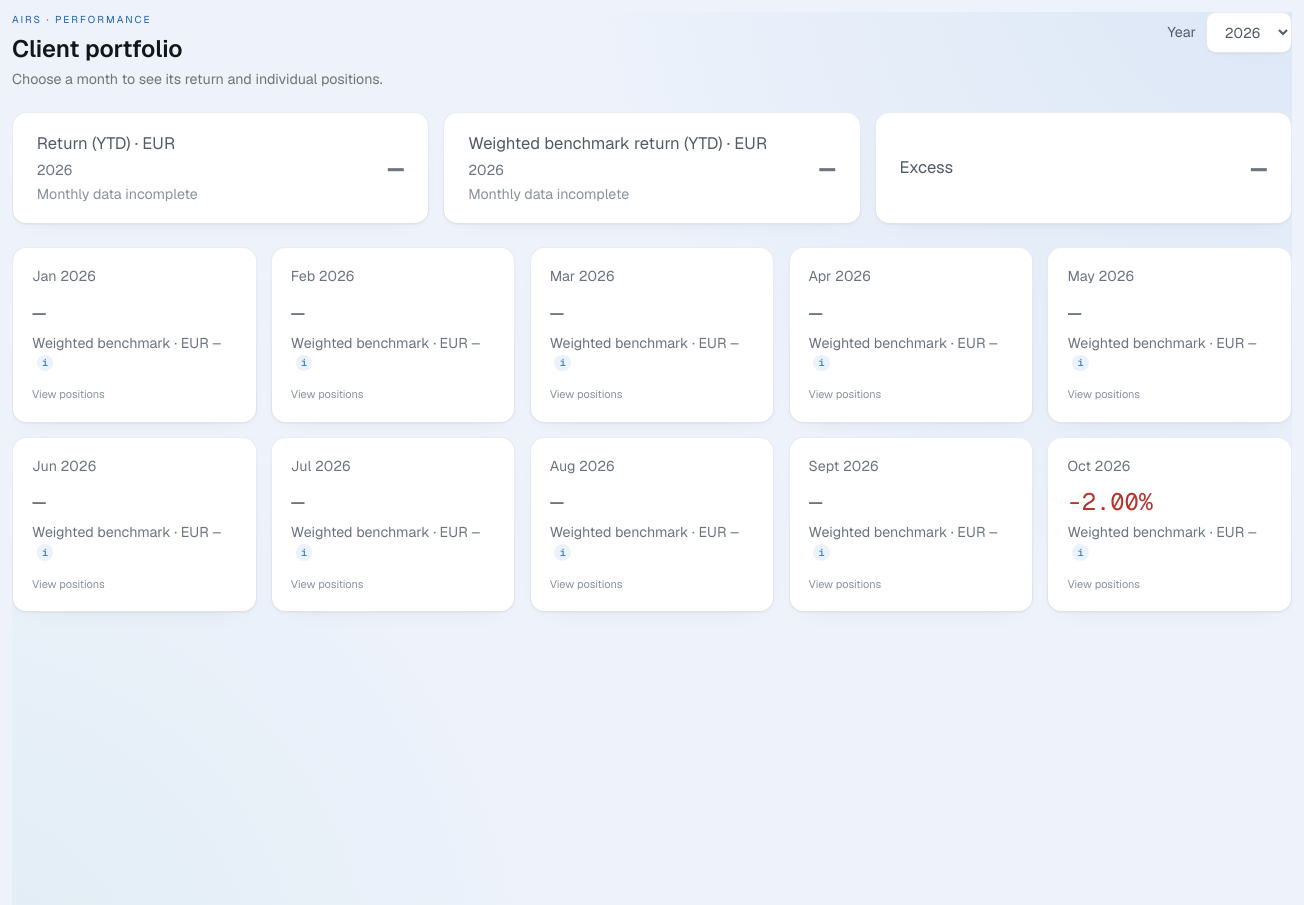
Test: AIRS monthly report › retains a partial-download failure after reloading the saved result
Click the button "Oct 2026 -2.00% Weighted benchmark · EUR — i View positions" at {"x": 1170, "y": 524}, box [1047,437,1292,612]
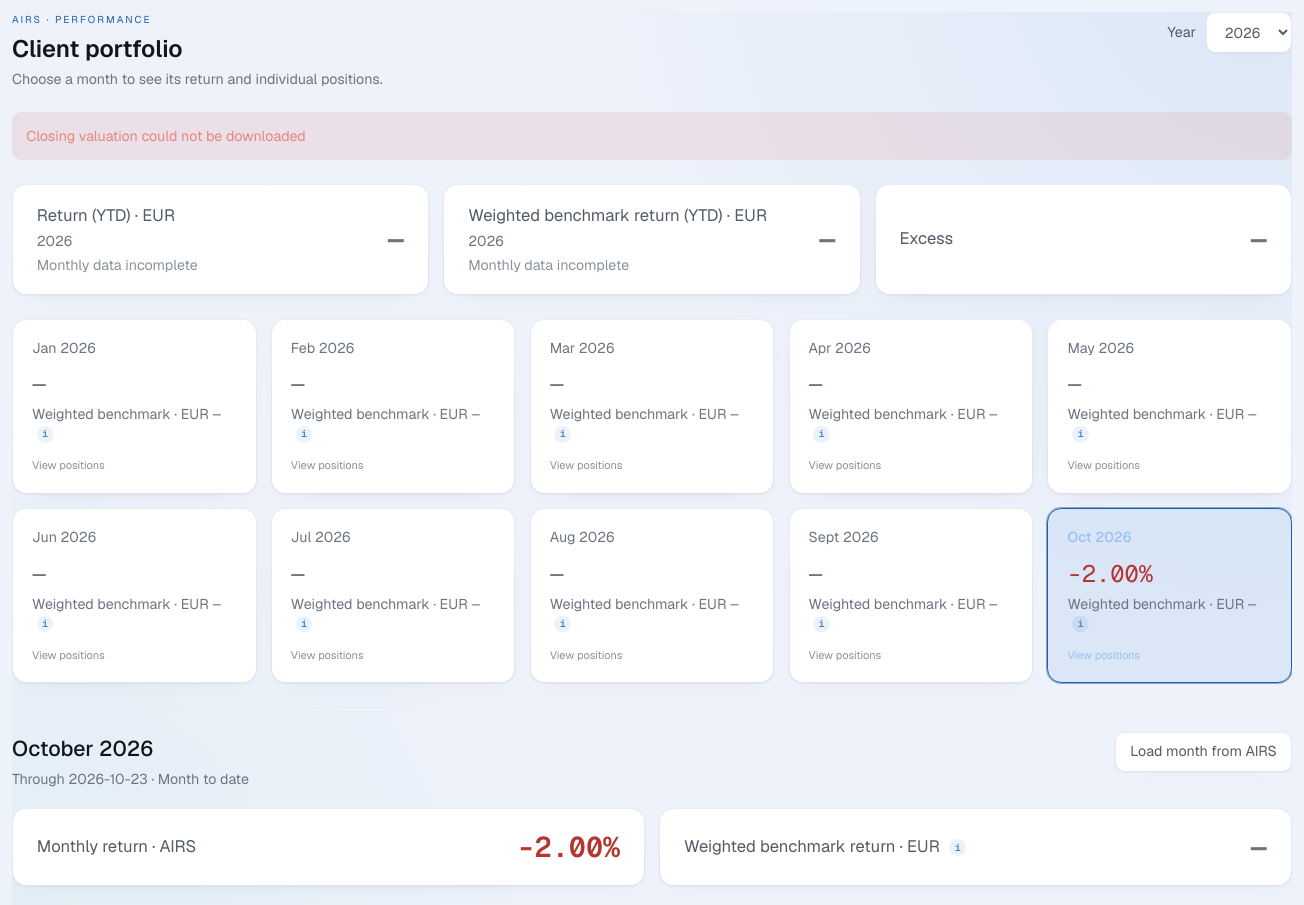
Now the text "Closing valuation could not be downloaded" is shown, box [12,112,1292,160]
